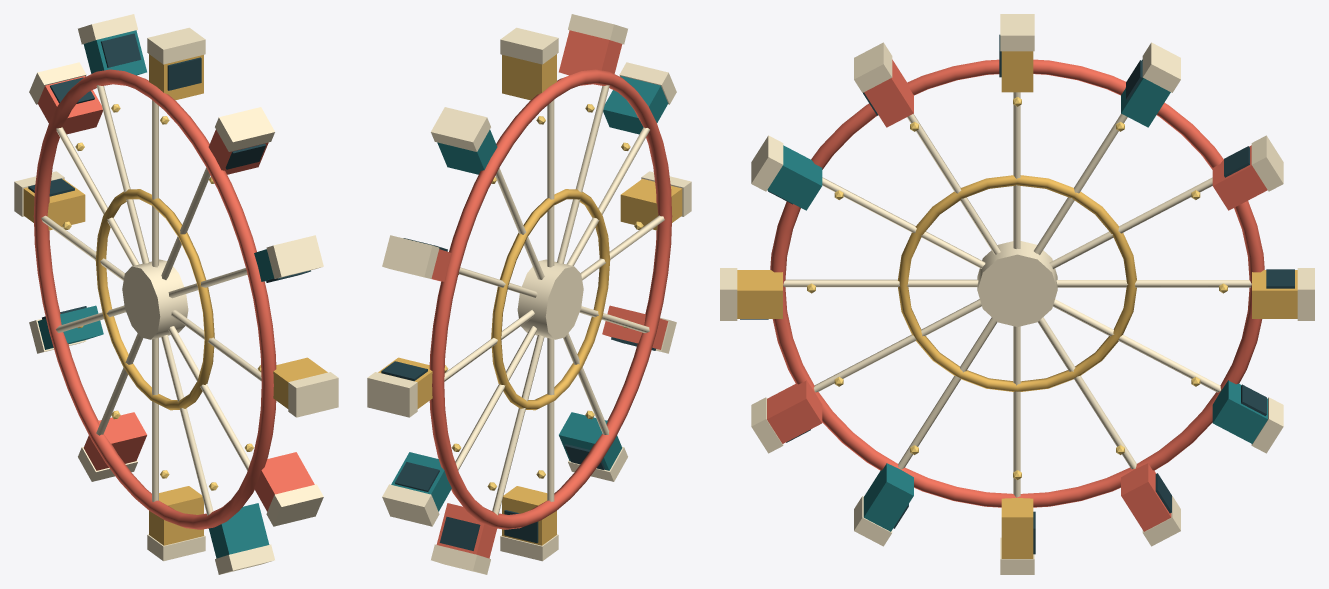
The model's file is ride_enterprise_motion.glb.
3 renders of one model, left to right at view 1: azimuth 30°, elevation 25°; view 2: azimuth 150°, elevation 25°; view 3: azimuth 270°, elevation 25°, orthographic. The views are drawn at different scales.
Parts seen in each view (by area): view 1: ride_enterprise_motion; view 2: ride_enterprise_motion; view 3: ride_enterprise_motion.
Boxes of the visible parts, box(x1,y1,x2,y2) form: ride_enterprise_motion: box(14, 14, 338, 574); ride_enterprise_motion: box(367, 14, 691, 574); ride_enterprise_motion: box(720, 14, 1314, 574).
Bounding box in the file's own units: 1.2 × 10.4 × 10.4.
